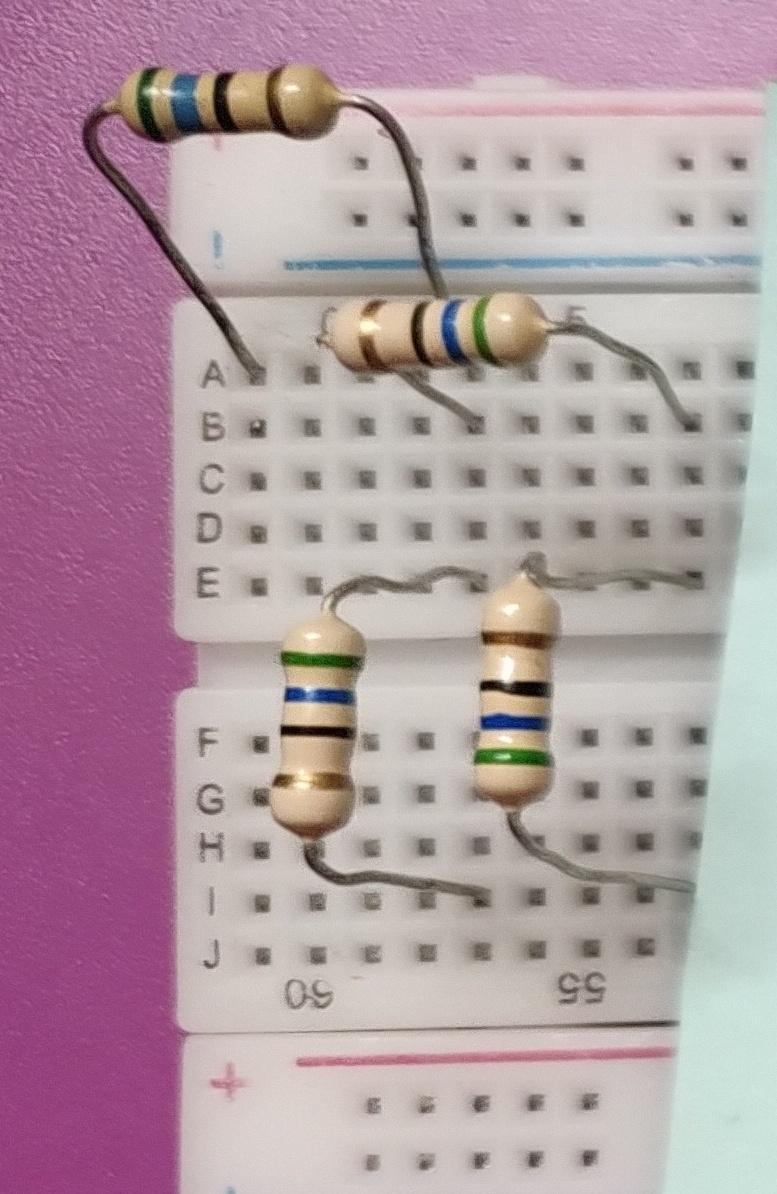resistor: (258, 598, 385, 857), (453, 568, 577, 827), (106, 46, 353, 166), (313, 281, 570, 380)
